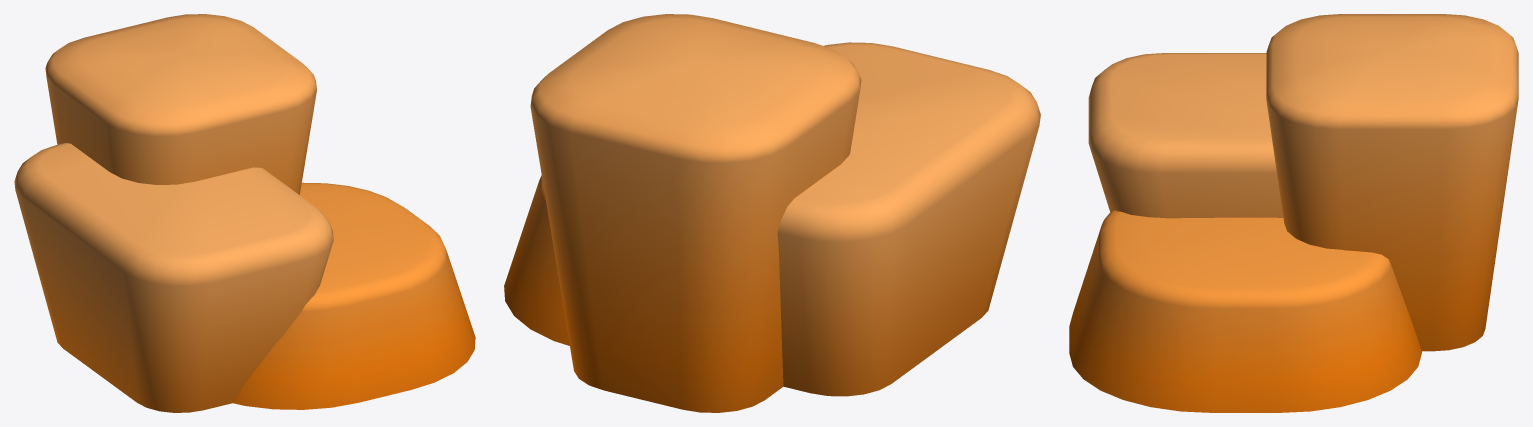
File: Rock_A_05.fbx
3 renders of one model, left to right at view 1: azimuth 30°, elevation 25°; view 2: azimuth 150°, elevation 25°; view 3: azimuth 270°, elevation 25°, orthographic. The views are drawn at different scales.
Parts seen in each view (by area): view 1: Rock_A_05; view 2: Rock_A_05; view 3: Rock_A_05.
Part boxes in pixels (bbox=[...]): Rock_A_05: bbox=[14, 14, 475, 412]; Rock_A_05: bbox=[504, 14, 1040, 412]; Rock_A_05: bbox=[1069, 14, 1518, 412].
Size of the model in its own units: 188 by 122 by 190.
